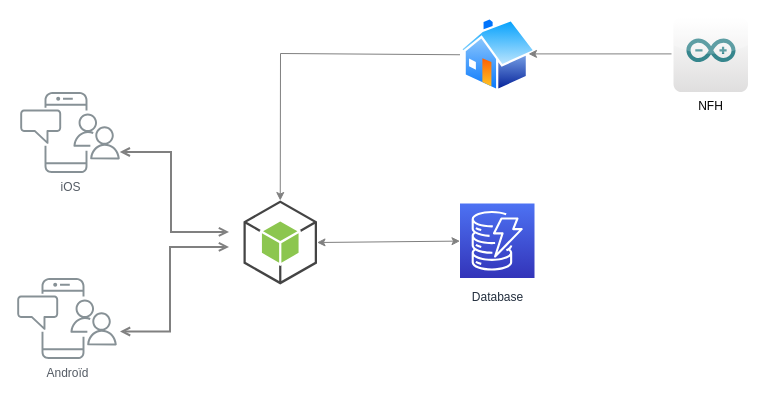
Some shapes in this 766 by 397 pixel diagram are drawn without their labels. Each missing label, with the centre of its shape:
API Gateway: (x=279, y=242)
House: (x=498, y=54)
